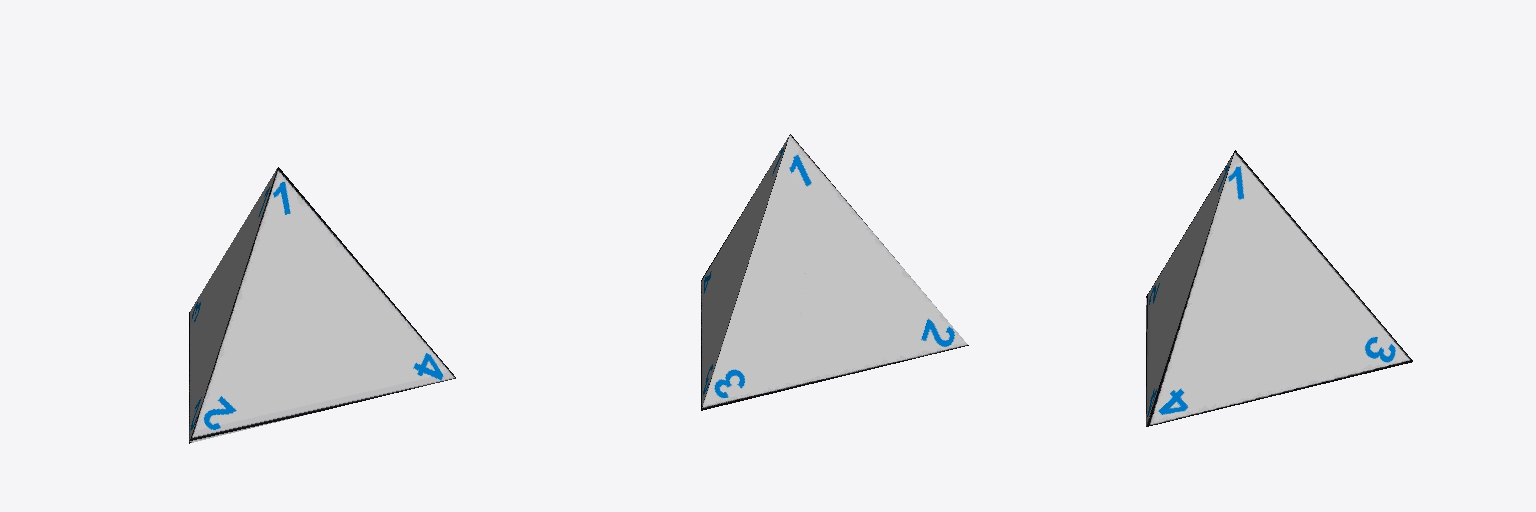
3 renders of one model, left to right at view 1: azimuth 30°, elevation 25°; view 2: azimuth 150°, elevation 25°; view 3: azimuth 270°, elevation 25°, orthographic.
Visible parts, largest first — view 1: Cone.001; view 2: Cone.001; view 3: Cone.001.
Part boxes in pixels (x1,y1,x2,y2): Cone.001: (189, 167, 455, 443); Cone.001: (701, 134, 968, 410); Cone.001: (1146, 150, 1412, 426).
Bounding box in the file's own units: 2.01 × 1.52 × 1.74.
Materials: 1 (1 with a texture image).